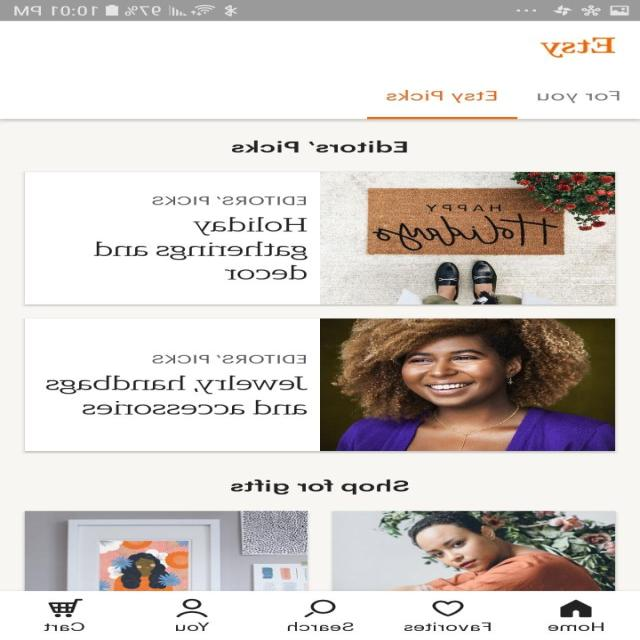Icon: (49, 598, 85, 617), (177, 598, 209, 618), (304, 599, 336, 617), (560, 599, 592, 617), (432, 599, 464, 616)
Image: (321, 170, 615, 304), (320, 318, 615, 451), (26, 510, 310, 590), (332, 510, 616, 590)
Text: (94, 217, 308, 280), (46, 374, 308, 414), (231, 478, 410, 495), (232, 140, 408, 152), (540, 36, 616, 58), (152, 195, 308, 205), (387, 90, 498, 104), (152, 354, 307, 364), (538, 90, 620, 103), (404, 621, 492, 631), (288, 621, 355, 631), (548, 622, 604, 631), (44, 621, 86, 631), (176, 622, 211, 630)
